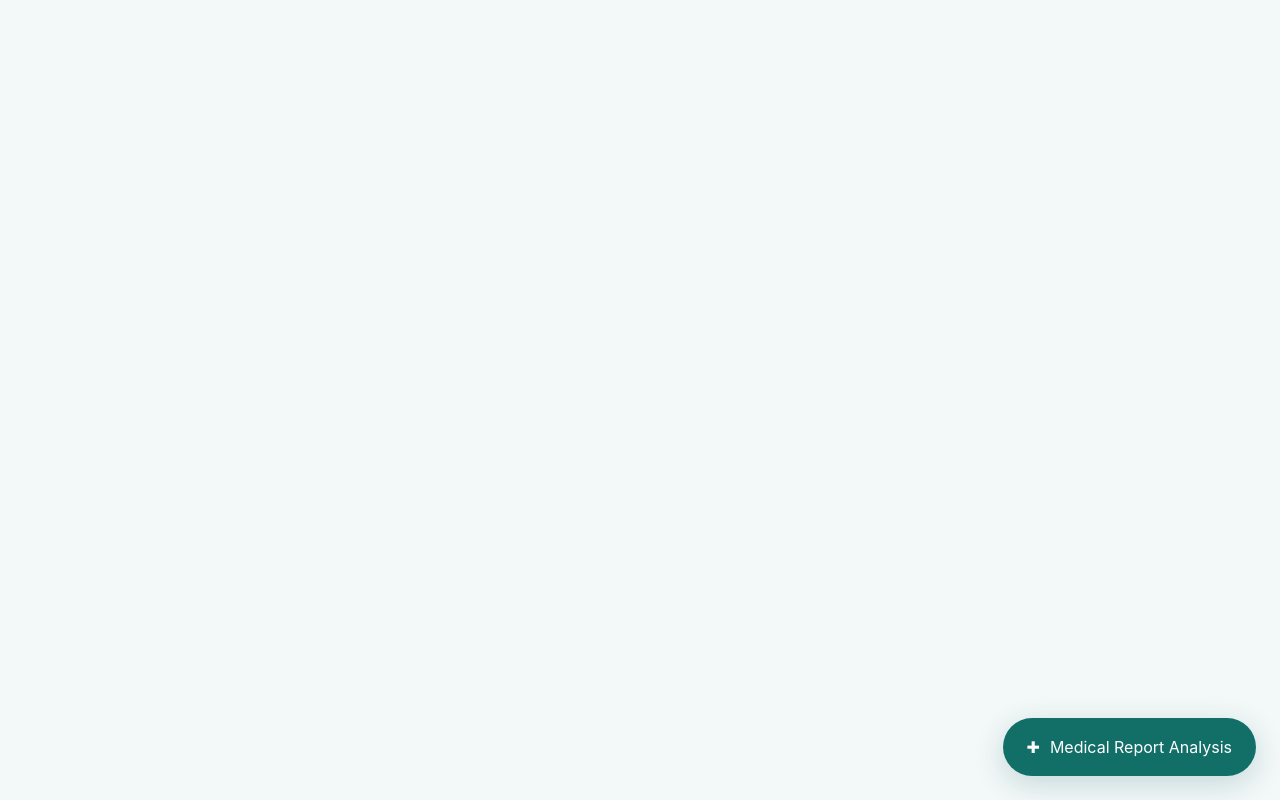
it: sends exact multipart fields and renders low result, summary, citations and reset
Later steps or results of the test are not shown.
Click the button "✚ Medical Report Analysis".
click(1129, 747)  # box [1002, 718, 1256, 776]
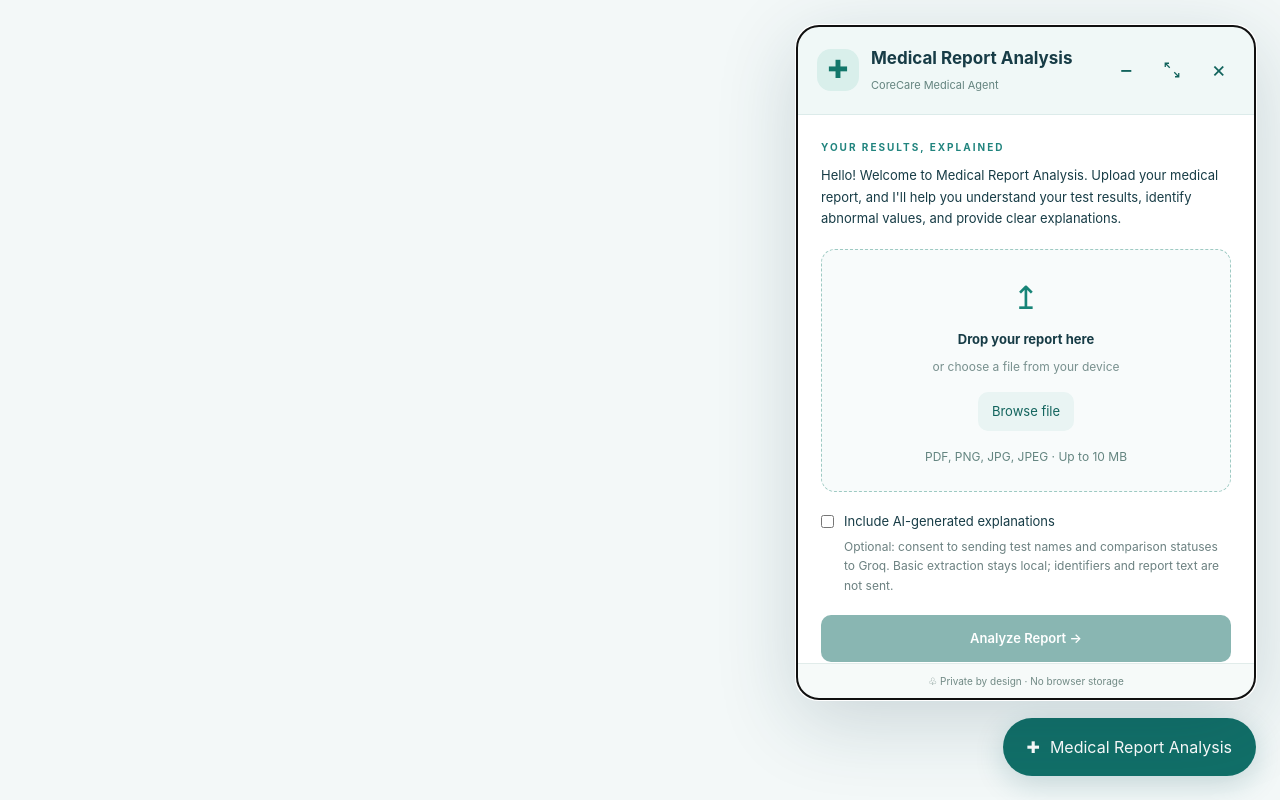
Result: the button "Browse file" is enabled at [978, 392, 1074, 432]
